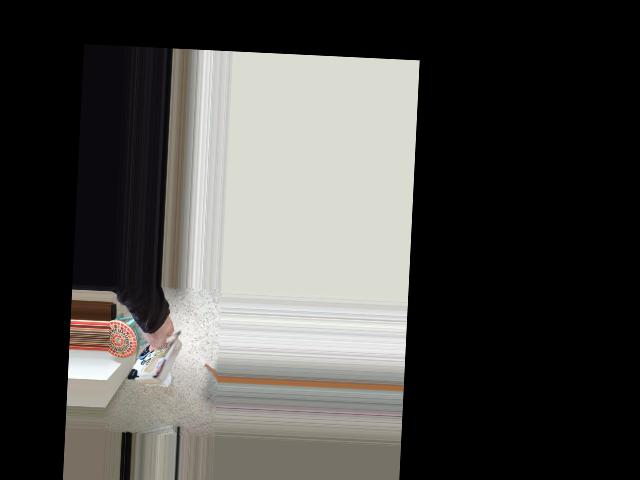cheese: (117, 315, 189, 388)
